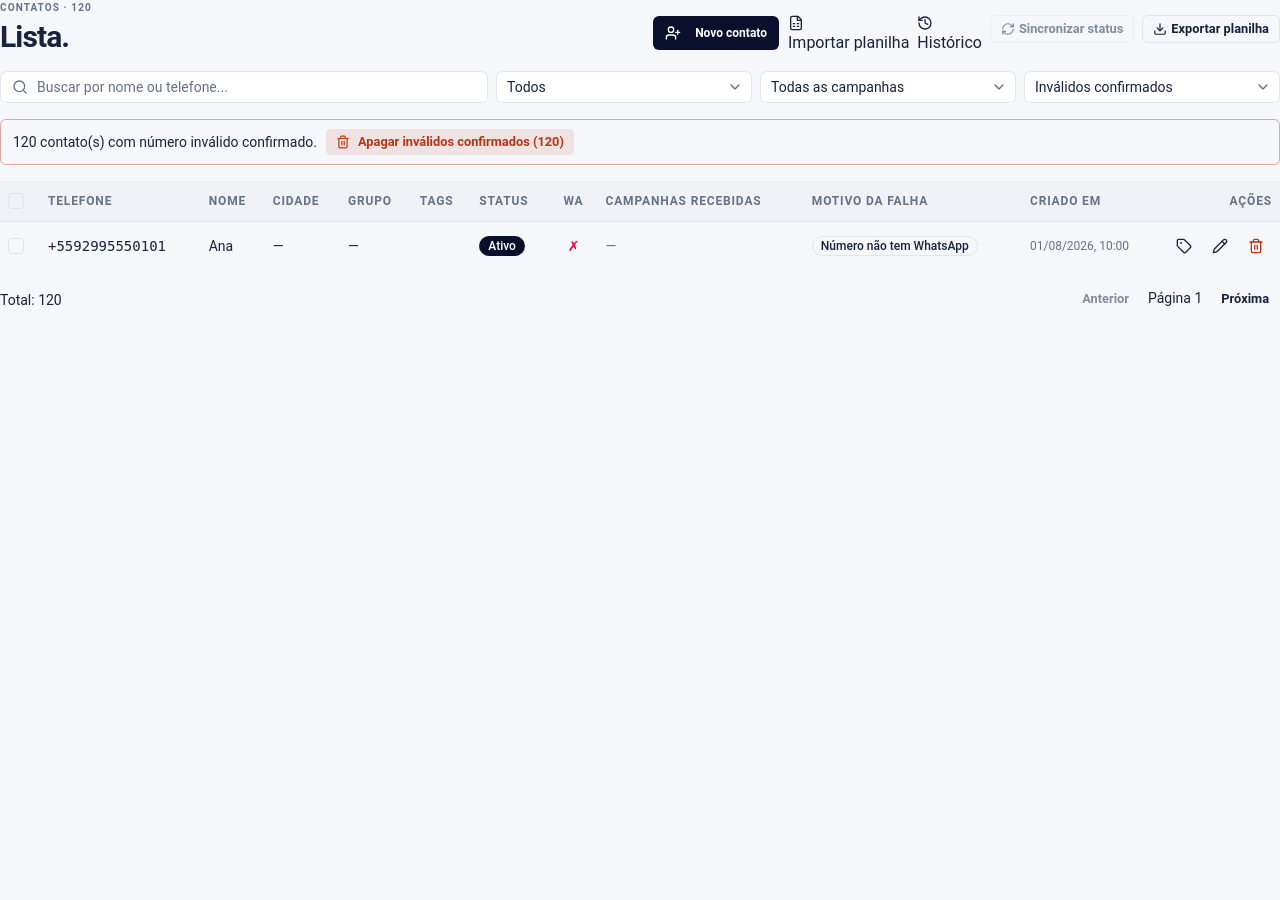
it: ContactsPage — apagar inválidos confirmados (B.3) › só libera o botão depois de digitar a contagem exata
This screenshot has width=1280, height=900.
Click the button "Apagar inválidos confirmados (120)": (450, 142) [325,128,575,156]
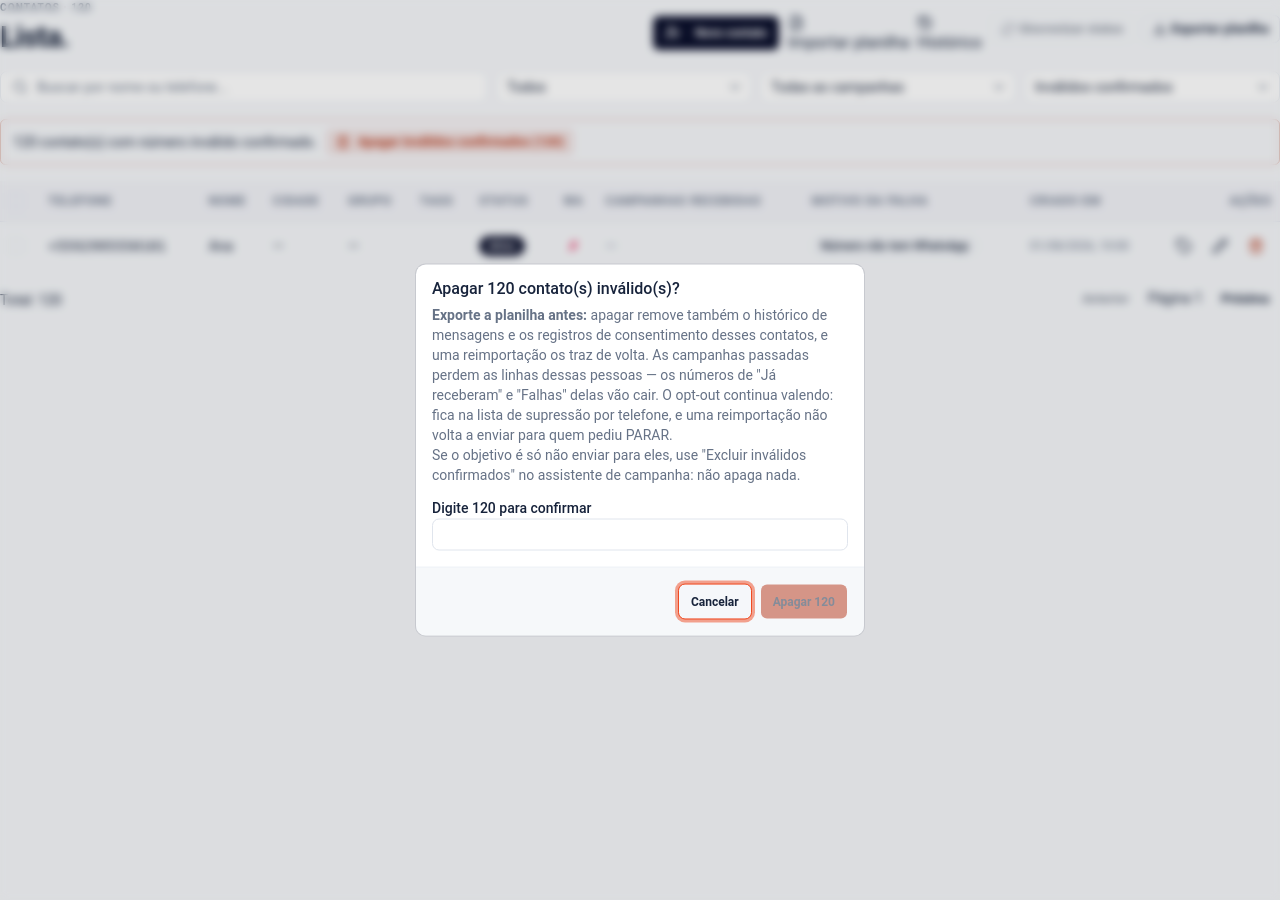
Expected: the button "Apagar 120" is disabled, [760,584,848,620]
In the field labelled "Digite 120 para confirmar": (640, 534) [432,518,848,550], type "12"
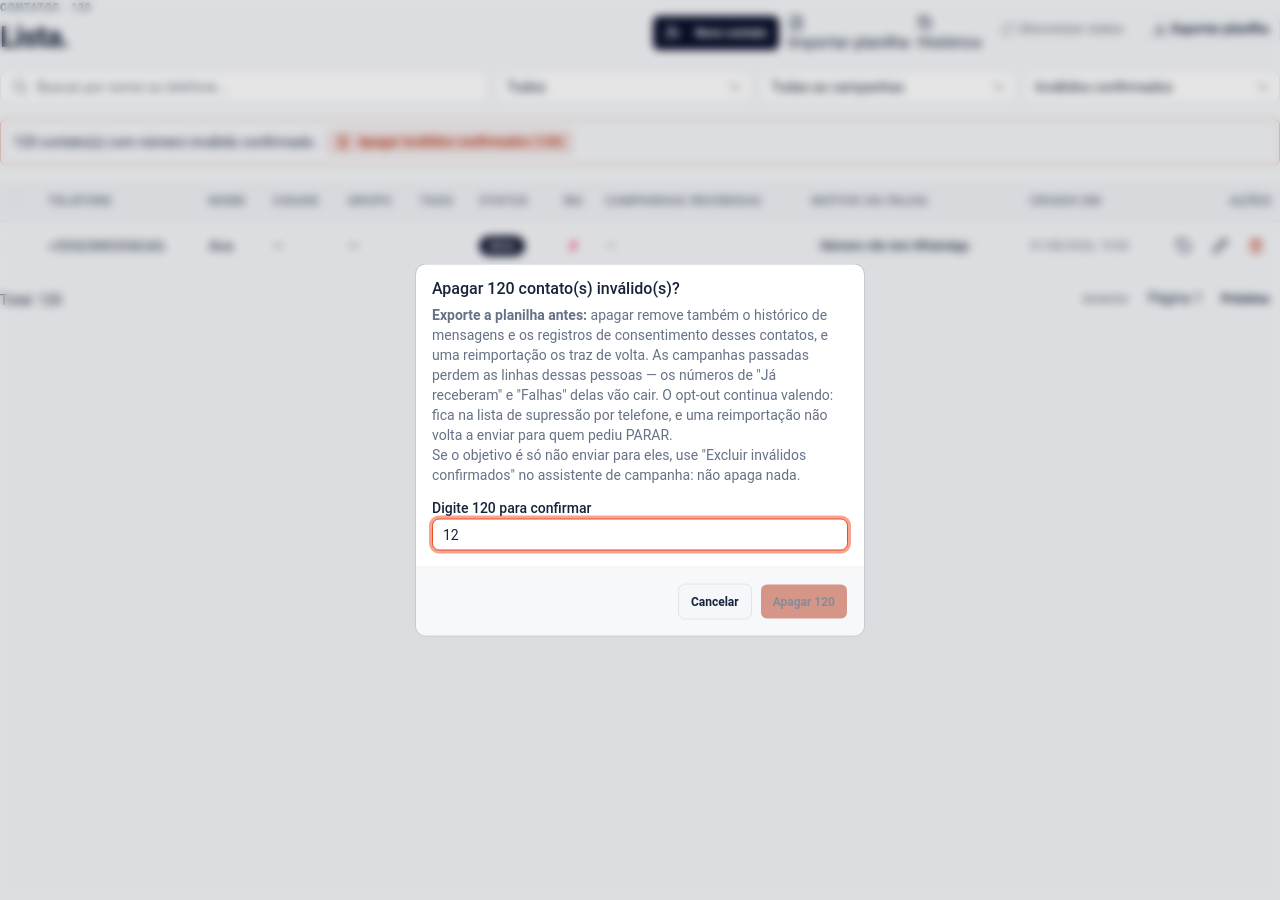
Expected: the button "Apagar 120" is disabled, [760,584,848,620]
In the field labelled "Digite 120 para confirmar": (640, 534) [432,518,848,550], type "0"
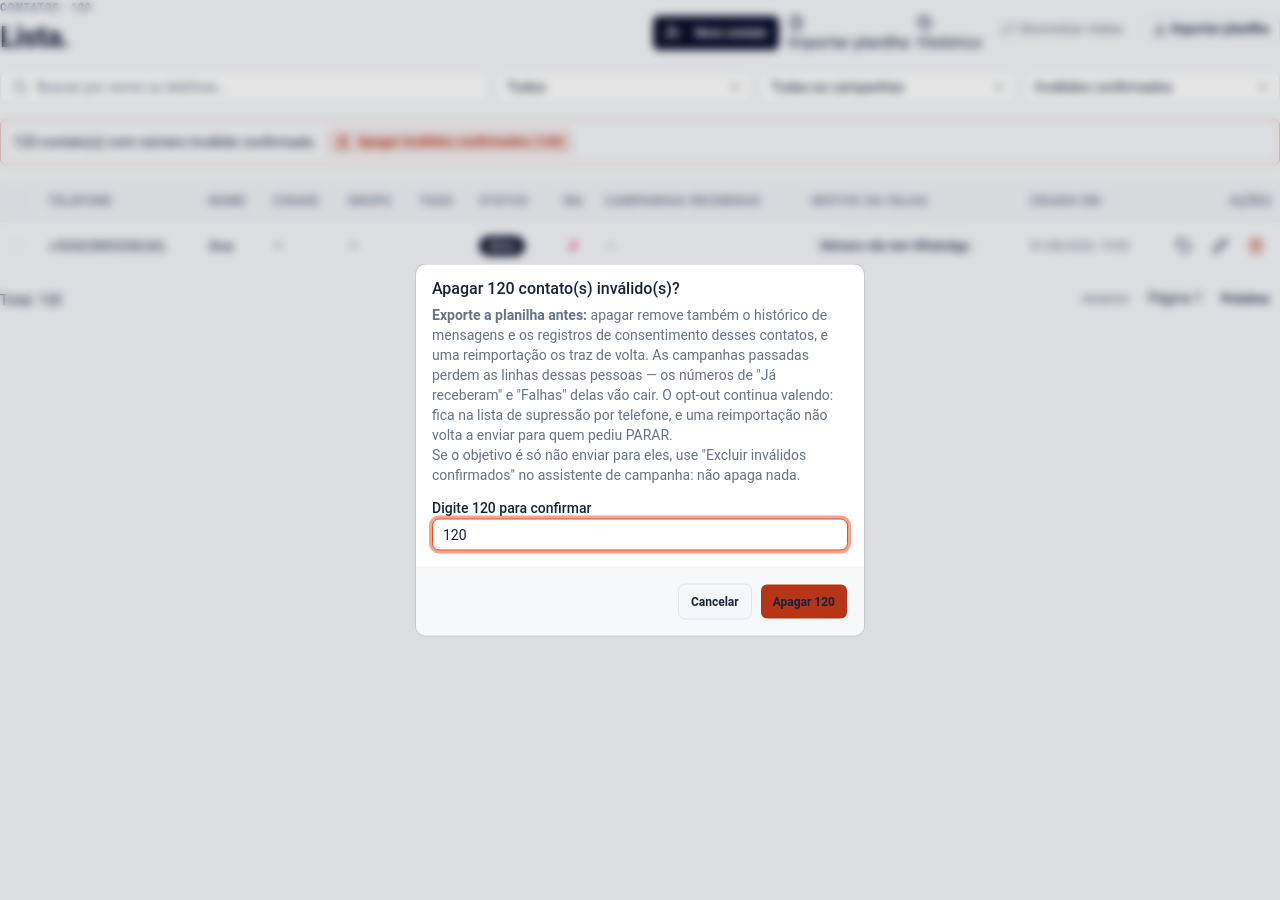
Expected: the button "Apagar 120" is enabled, [760,584,848,620]
